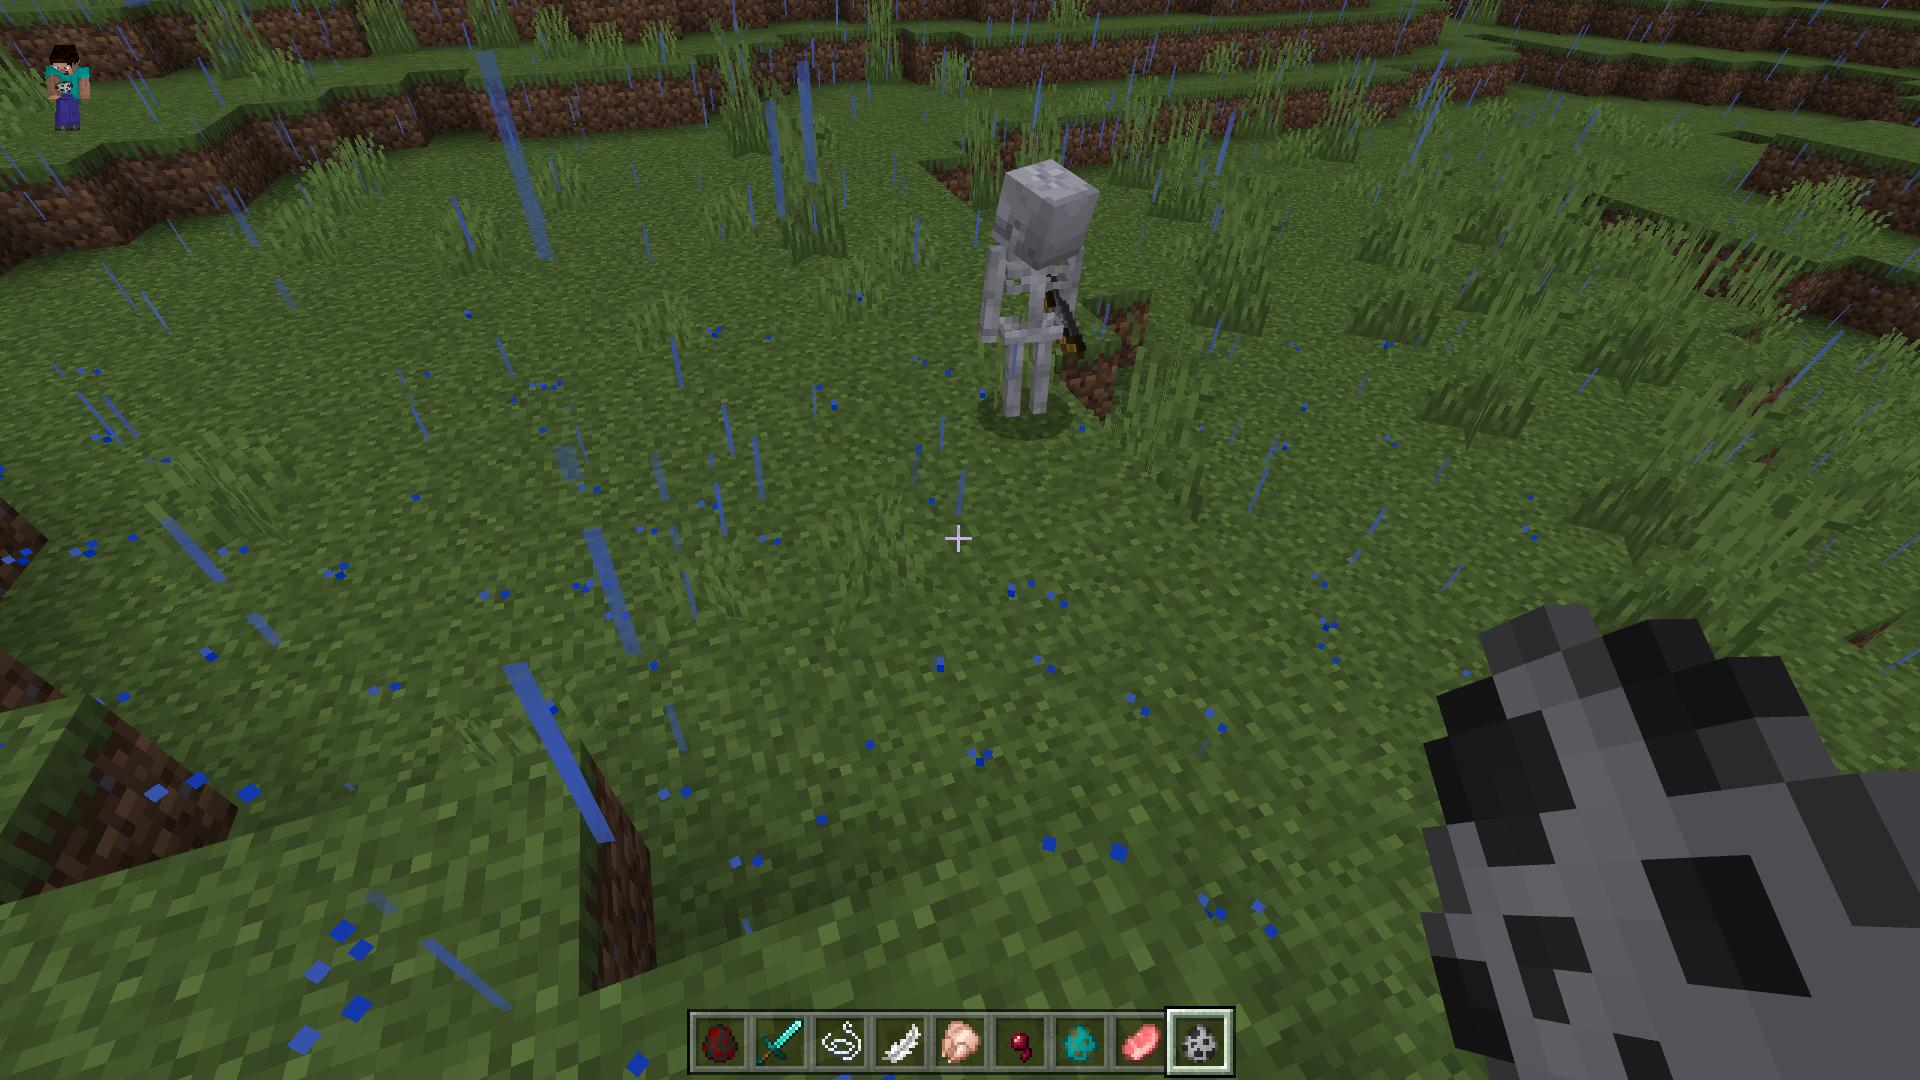skeleton: (984, 160, 1106, 427)
